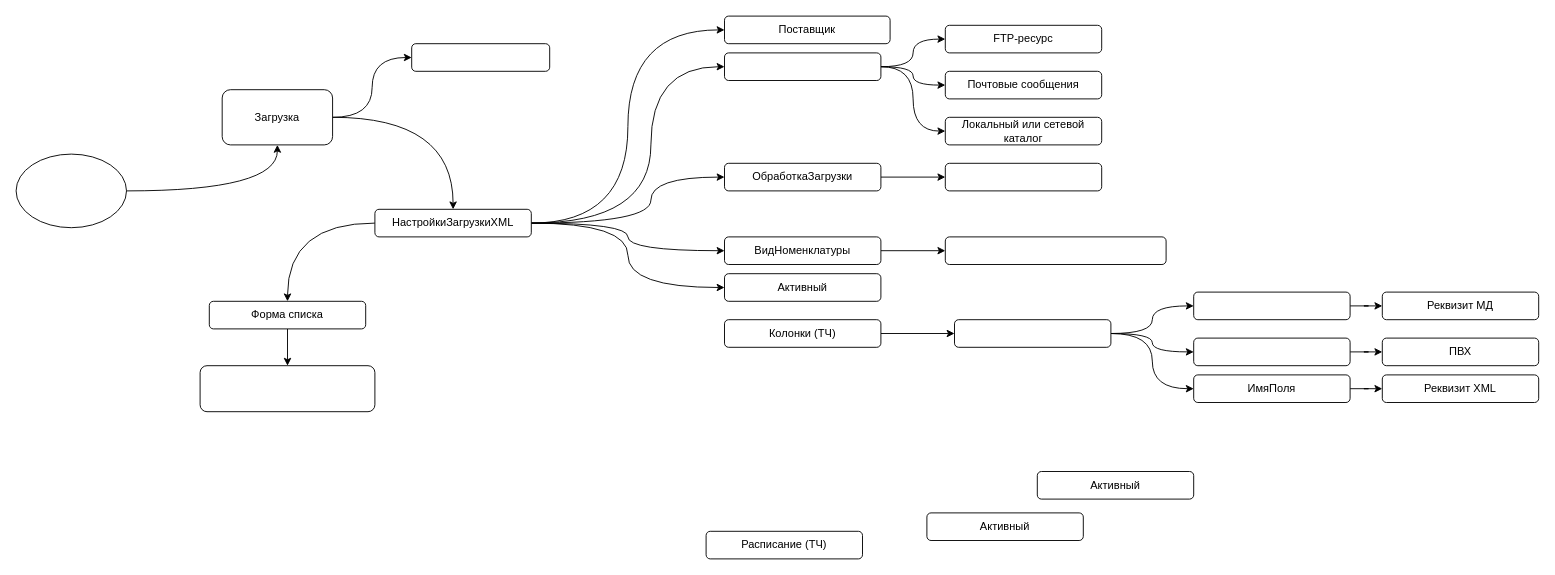
Image size: 1555x575. Some labels were removed from this diagram. The box of each missing label's shape, as (x1, y1, x2, y2) in pixels:
27 (шт) ЗагрузкаОтПоставщиков: (944, 162, 1102, 191)
ВидТранспорта: (724, 52, 881, 80)
ДонШина: (15, 153, 126, 228)
ИмяСвойства: (1193, 291, 1350, 320)
Настройки загрузки: (411, 43, 550, 71)
Свойство: (1193, 337, 1350, 366)
Соответствие колонок: (954, 319, 1111, 347)
СправочникСсылка.ВидыНоменклатуры: (944, 236, 1166, 264)
Условное оформление 24 часа с последнего прихода: (199, 365, 375, 412)
